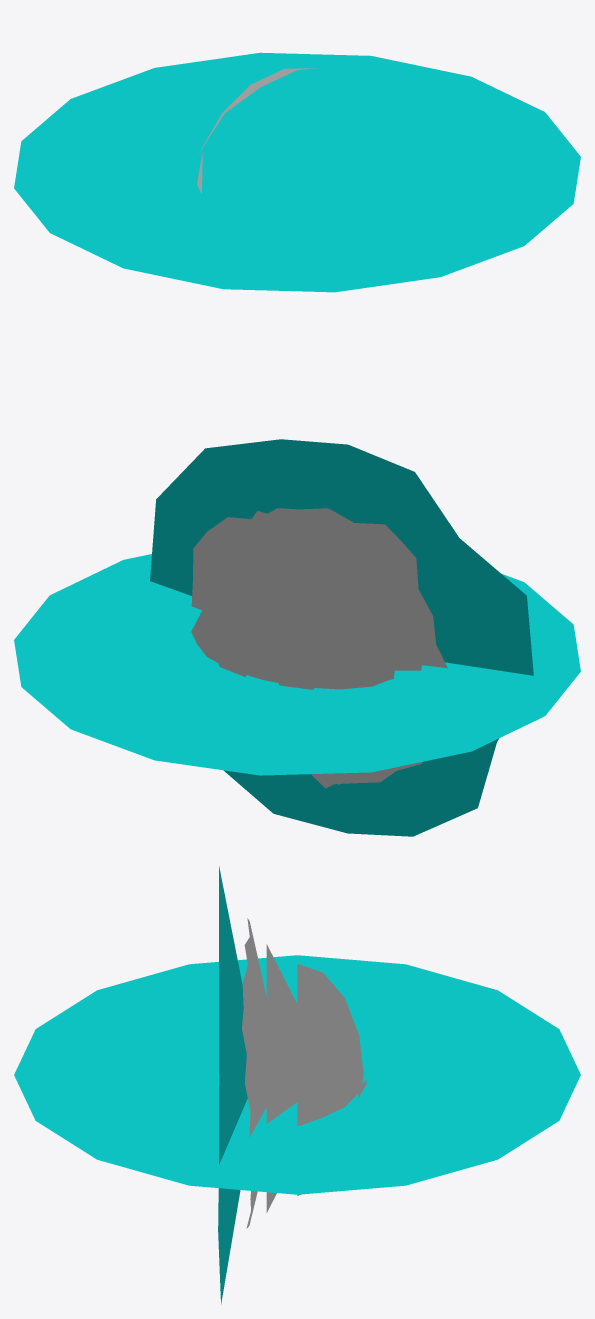
The model's file is obstacle-wisp_H1M_NoAtlas.glb.
The picture shows the model from 3 angles, top to bottom: view 1: azimuth 30°, elevation 25°; view 2: azimuth 150°, elevation 25°; view 3: azimuth 270°, elevation 25°; orthographic projection.
Visible parts, largest first — view 1: obstacle-wisp_ground_glow, obstacle-wisp_H1M; view 2: obstacle-wisp_ground_glow, obstacle-wisp_glow, obstacle-wisp_H1M, obstacle-wisp_layer2, obstacle-wisp_layer1; view 3: obstacle-wisp_ground_glow, obstacle-wisp_H1M, obstacle-wisp_glow, obstacle-wisp_layer1, obstacle-wisp_layer2.
Part boxes in pixels (x1,y1,x2,y2): obstacle-wisp_ground_glow: [14, 52, 580, 292]; obstacle-wisp_H1M: [197, 68, 316, 193]; obstacle-wisp_ground_glow: [14, 554, 580, 775]; obstacle-wisp_glow: [150, 439, 533, 836]; obstacle-wisp_H1M: [191, 539, 397, 784]; obstacle-wisp_layer2: [191, 508, 447, 784]; obstacle-wisp_layer1: [209, 511, 421, 788]; obstacle-wisp_ground_glow: [14, 955, 580, 1194]; obstacle-wisp_H1M: [297, 963, 366, 1195]; obstacle-wisp_glow: [218, 866, 247, 1304]; obstacle-wisp_layer1: [266, 944, 297, 1212]; obstacle-wisp_layer2: [242, 918, 266, 1228].
Bounding box in the file's own units: 4.13 × 3.1 × 4.13.
